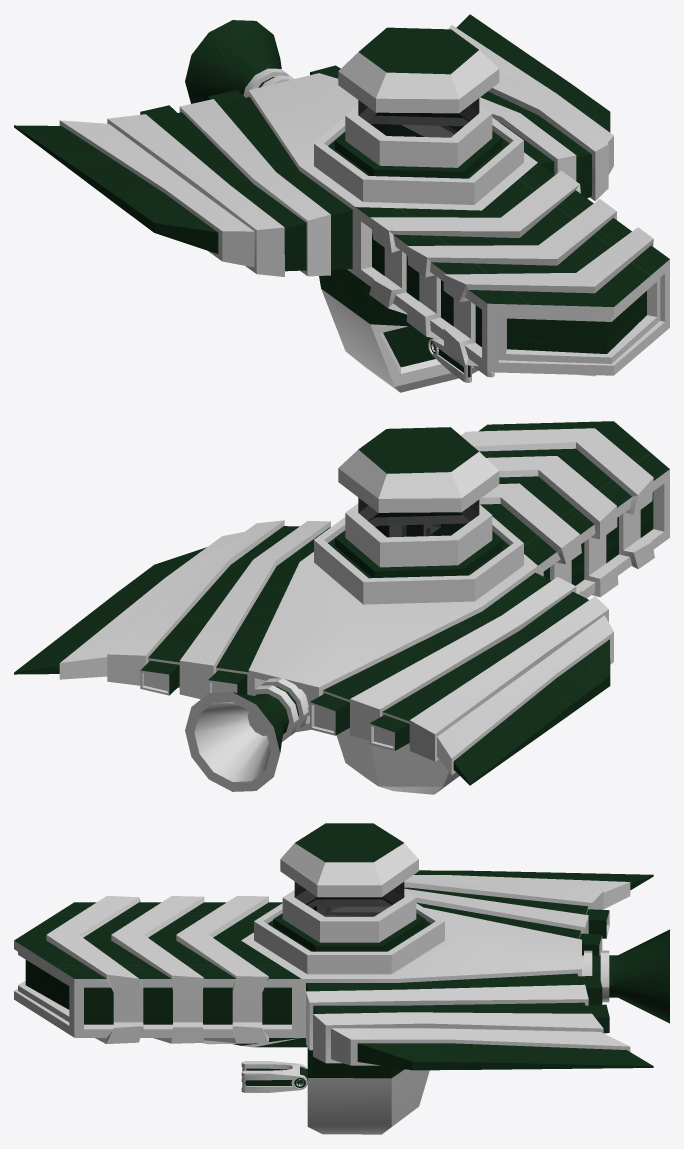
Rendered from DDD.fbx.
3 renders of one model, top to bottom at view 1: azimuth 30°, elevation 25°; view 2: azimuth 150°, elevation 25°; view 3: azimuth 270°, elevation 25°, orthographic. The views are drawn at different scales.
Visible parts, largest first — view 1: DDD; view 2: DDD; view 3: DDD.
Part boxes in pixels (x1,y1,x2,y2): DDD: (14, 14, 669, 392); DDD: (14, 421, 669, 794); DDD: (14, 823, 669, 1134).
Bounding box in the file's own units: 6.01 × 4.06 × 8.7.
